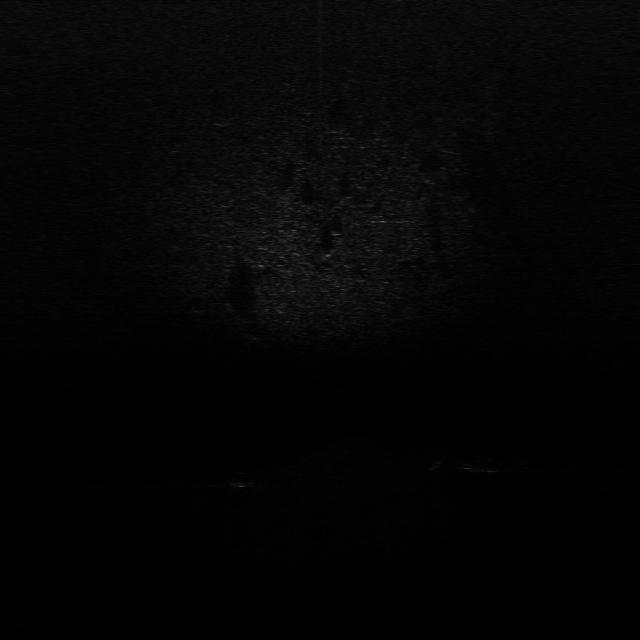ball: (229, 465, 257, 489)
human body: (412, 451, 512, 479)
